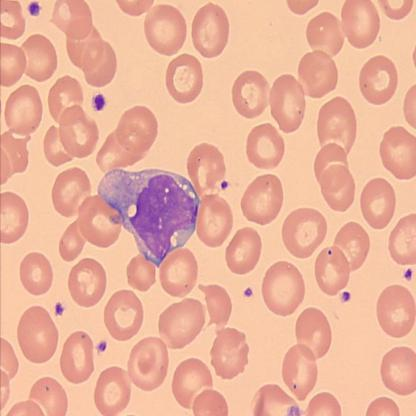Atypical lymphocyte: (96, 166, 202, 264)
